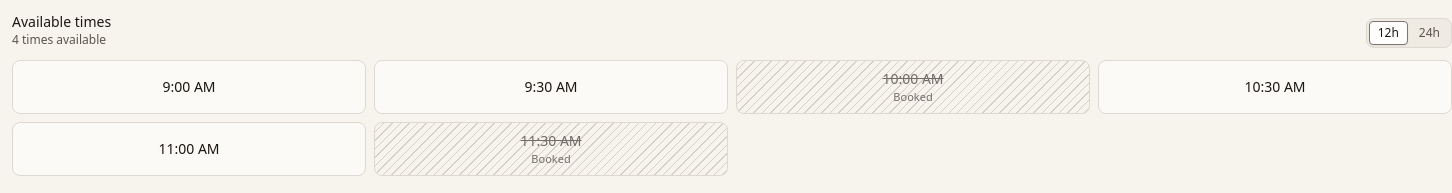
TimeSlotList › follows the locale hour cycle by default and can switch with the toggle
Check: the radio button labelled "9:00 AM" is shown, box [12,60,366,114]
What coordinates should you click on to do the following:
click the radio button labelled "24h"
I would click on:
 (1429, 32)
Its box is [1419,24,1440,41].
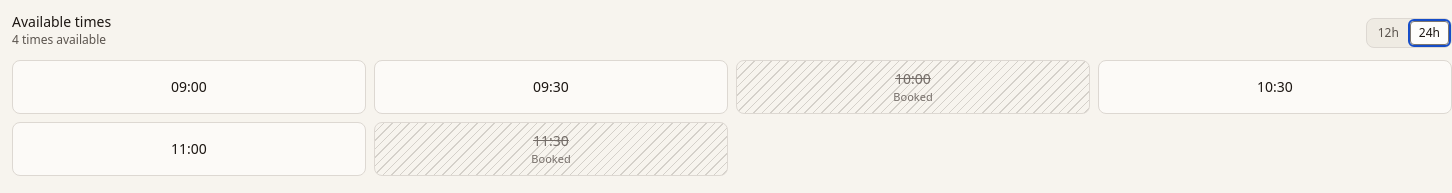
Check: the element named "Clock format" is shown, box [1366,18,1451,48]
Check: the radio button labelled "09:00" is shown, box [12,60,366,114]
